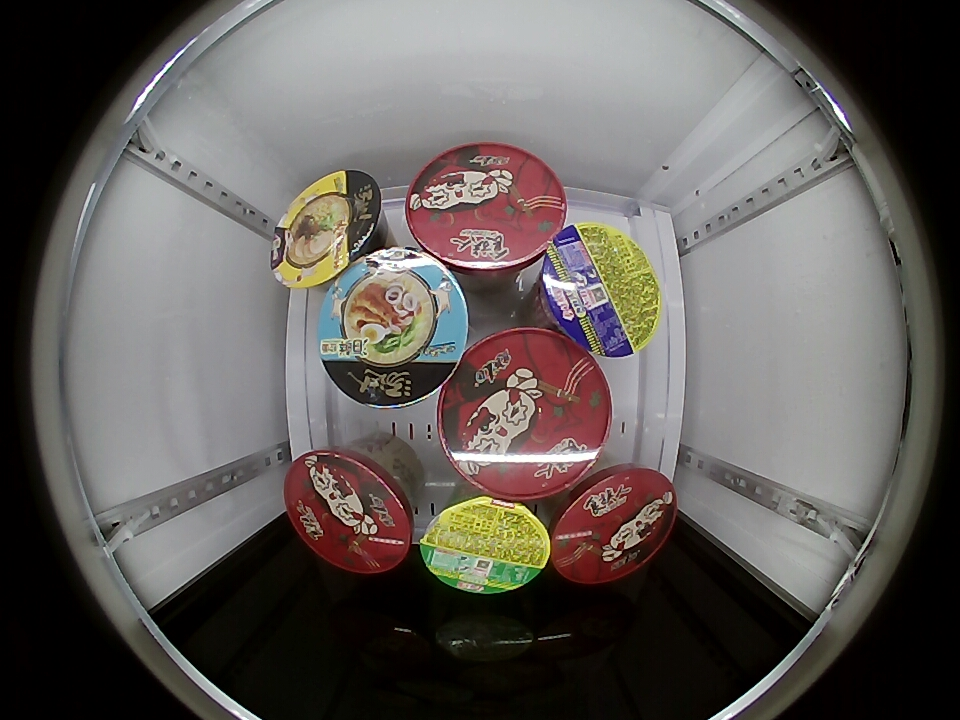heweidao: (540, 221, 661, 357)
heweidao2: (419, 493, 552, 594)
suanlafen: (435, 326, 613, 499), (404, 144, 568, 279), (284, 447, 417, 573), (549, 465, 678, 584)
tangdaren2: (270, 170, 384, 289)
tangdaren3: (318, 250, 469, 409)
